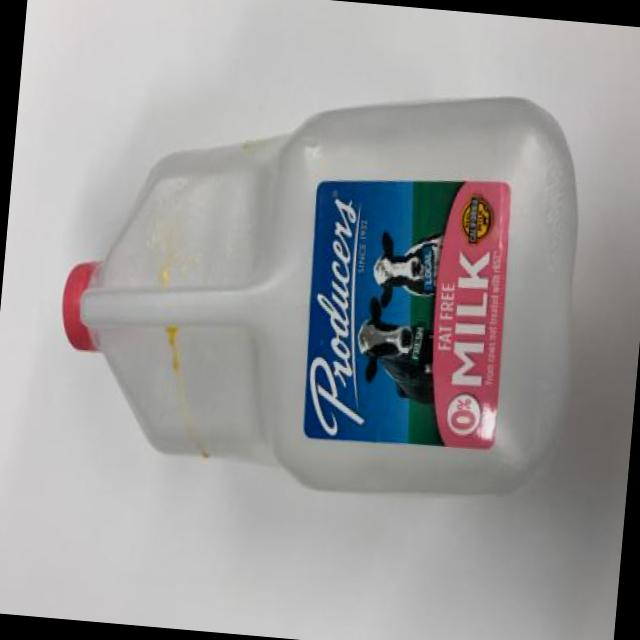Recycle: (45, 56, 592, 506)
